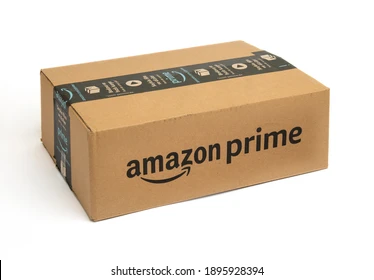package: (39, 39, 332, 224)
